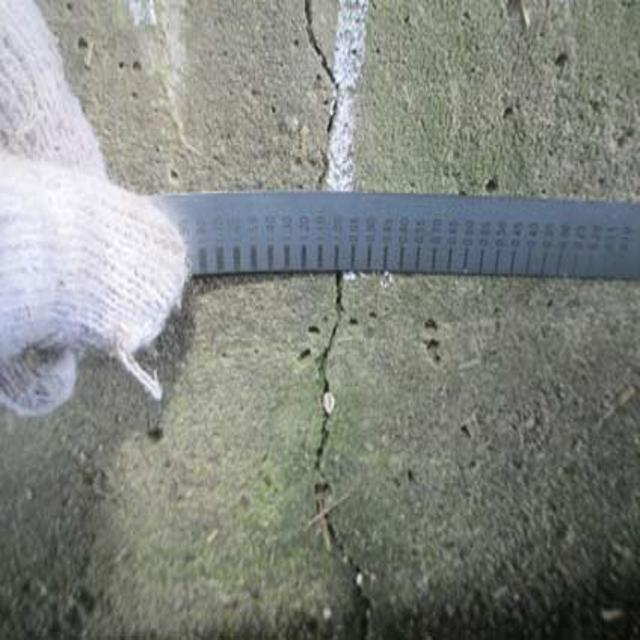crack: (283, 283, 390, 640), (293, 10, 360, 199)
